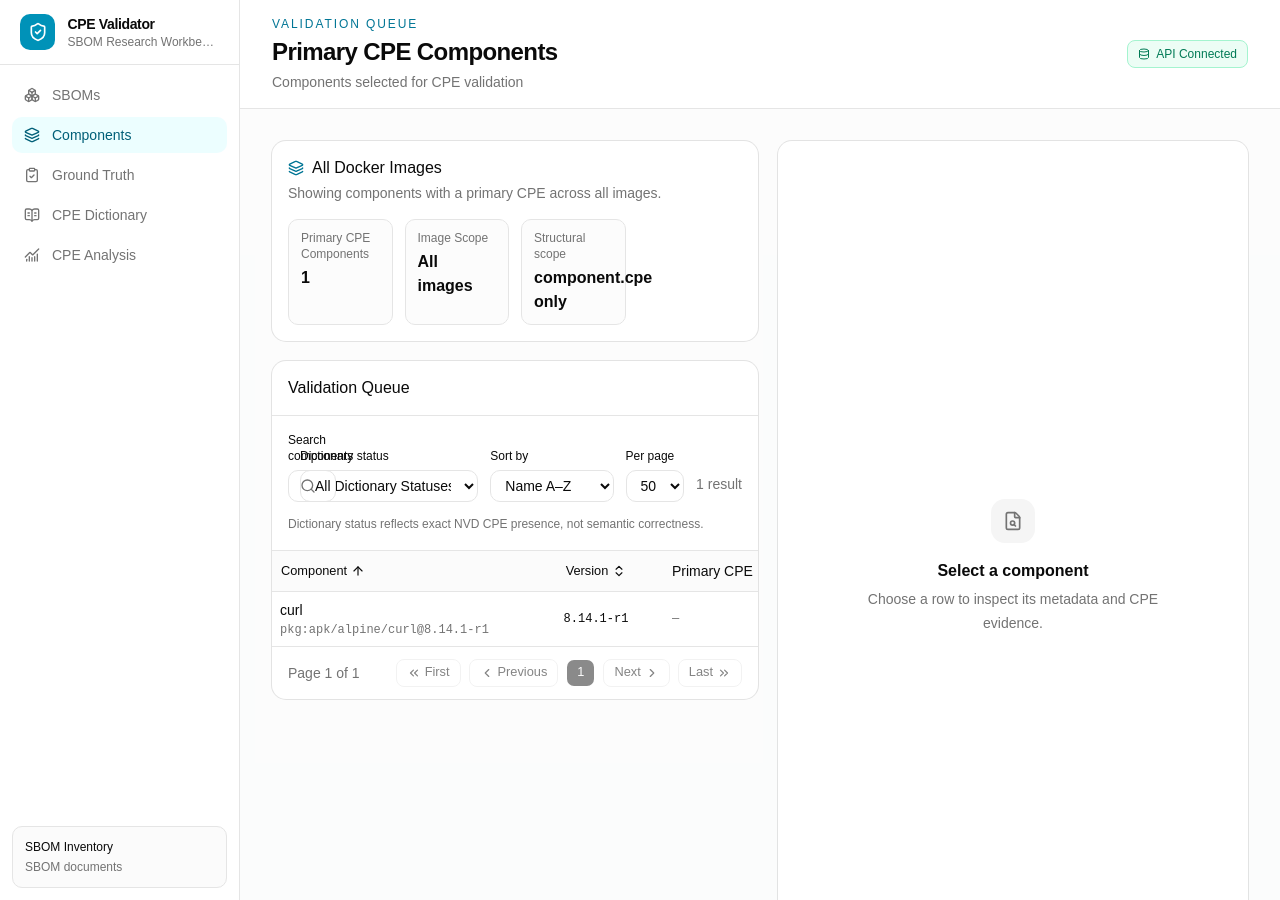
Test: Components routing and page › requests missing Primary CPE Components for NOT_PRESENT
Expected: the text "curl" is shown, [280,602,303,618]
Select "Primary CPE Not Present" in the dropdown labelled "Dictionary status": (389, 486) [300,470,478,502]
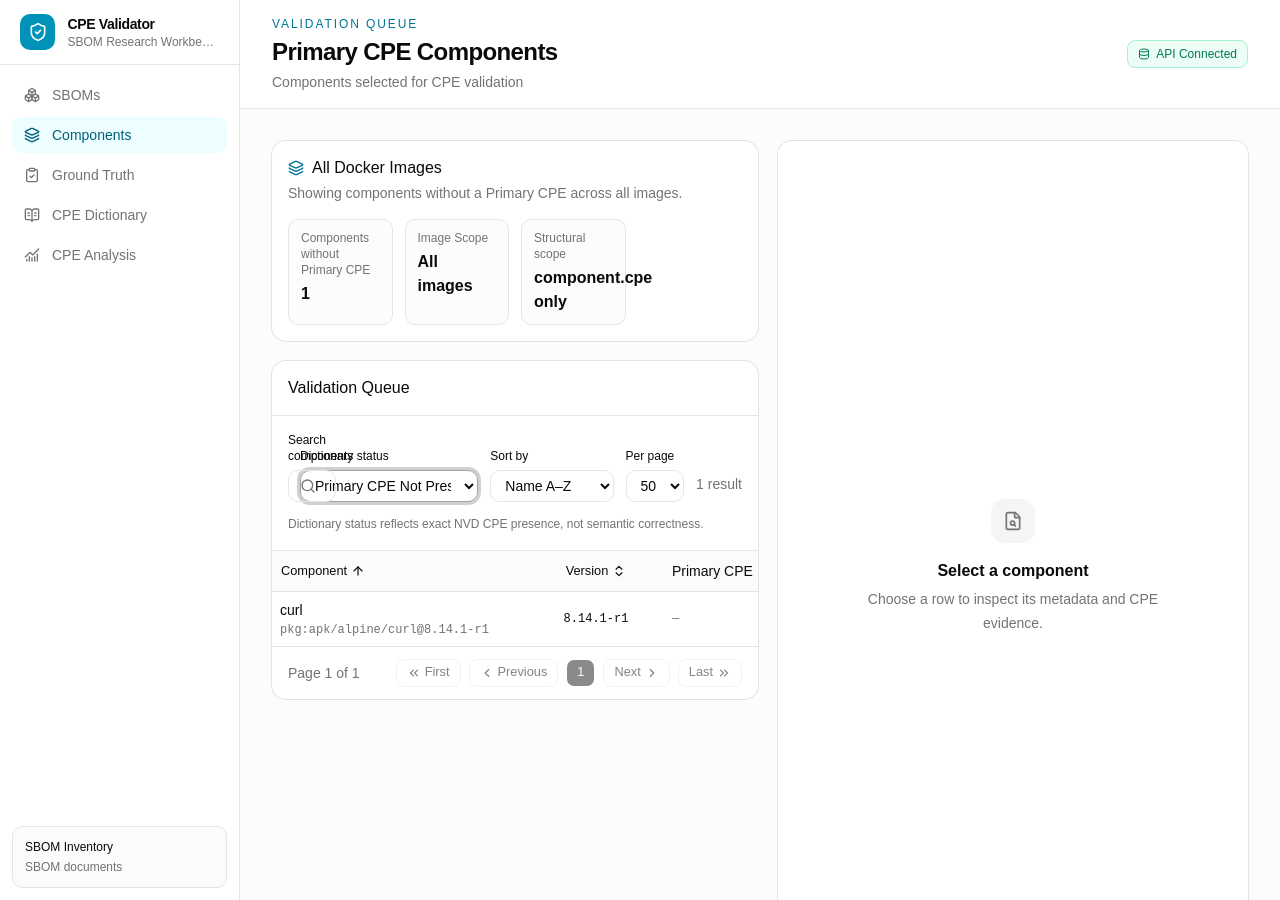
Expected: the text "—" is shown, [672,612,679,626]
Now the text "Showing components without a Primary CPE across all images." is shown, box [288,183,742,203]
